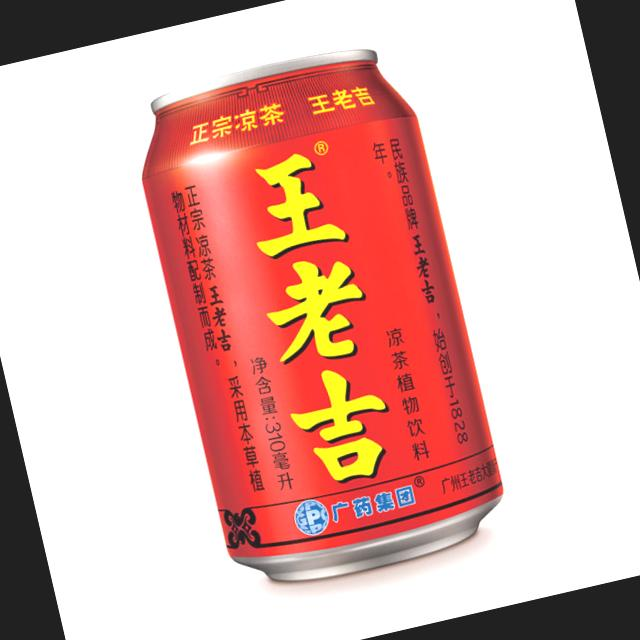can: (114, 27, 520, 604)
